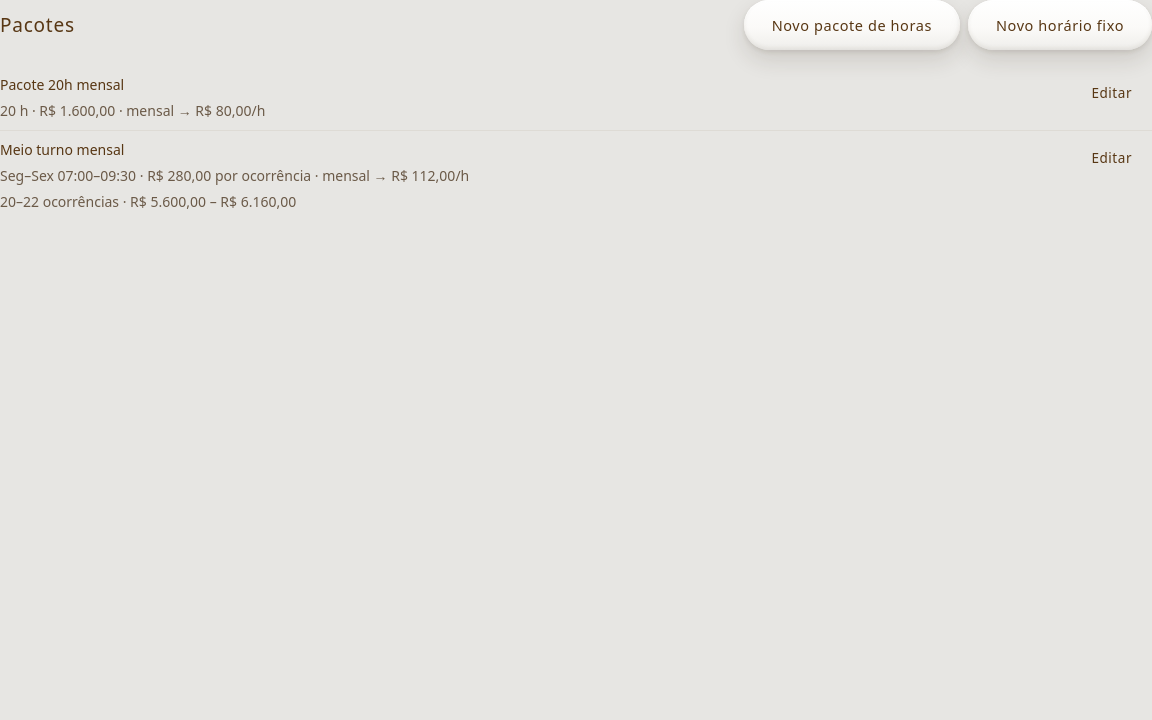
Test case: Hour package form (REC-01, REC-03) › shows "R$ 80,00/h" while typing R$ 1.600,00 and 20 hours
This screenshot has width=1152, height=720.
Click the button "Novo pacote de horas" at (852, 25), box [744,0,960,50]
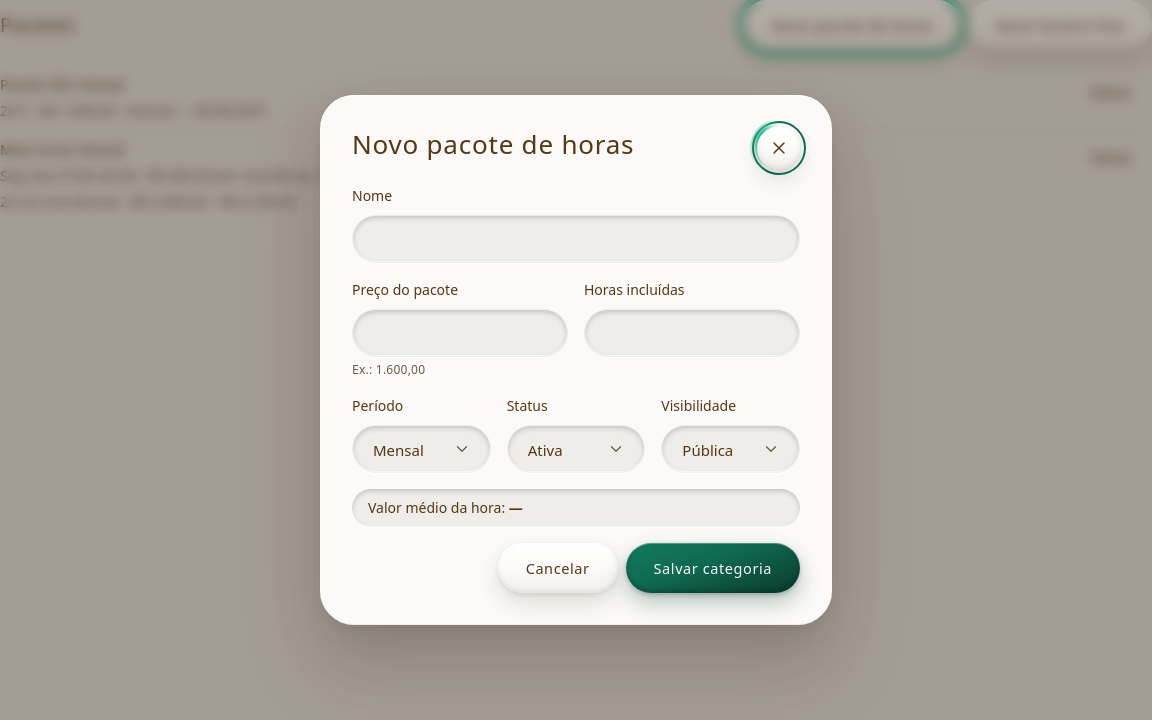
Type "1.600,00" into the field labelled "Preço do pacote" at (460, 333), box [352,309,568,357]
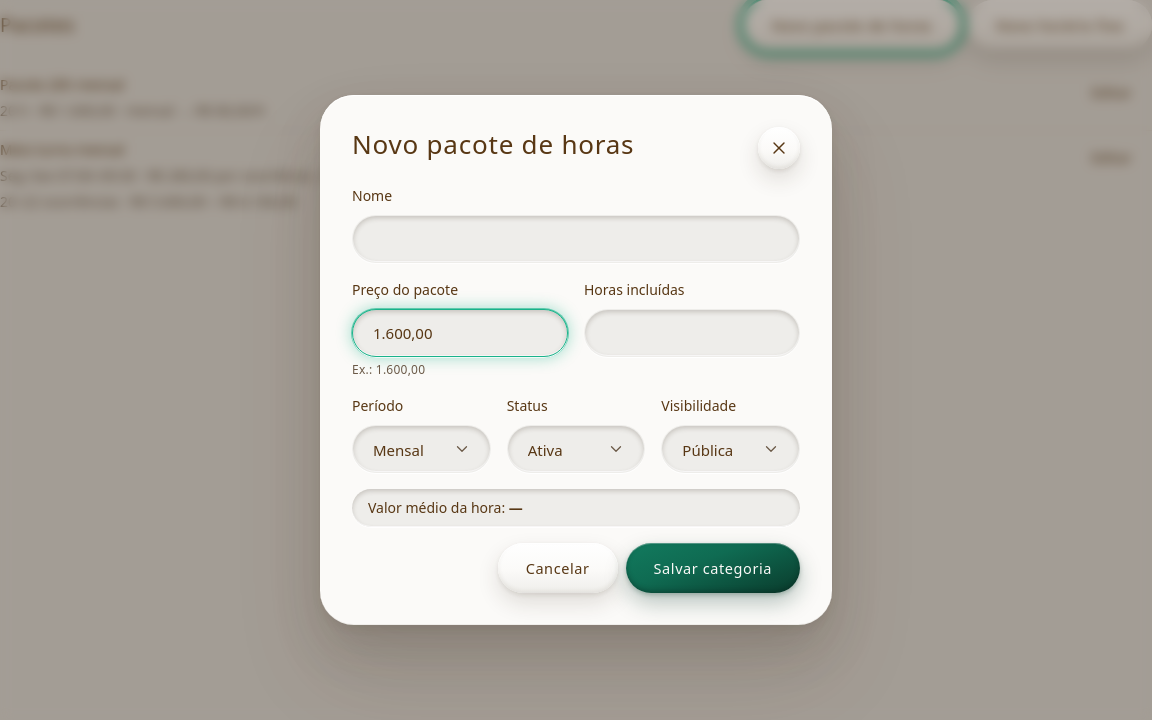
Type "20" into the number field labelled "Horas incluídas" at (692, 333), box [584,309,800,357]
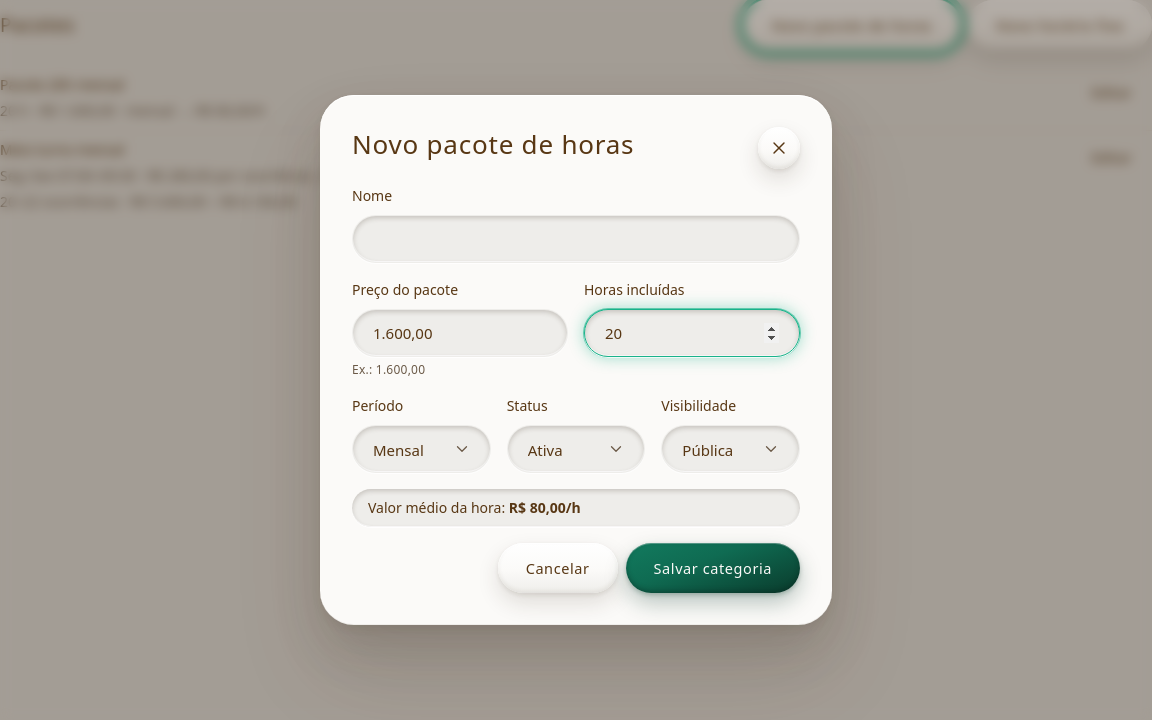
Expected: the text "Valor médio da hora: R$ 80,00/h" is shown, [368,498,581,517]
